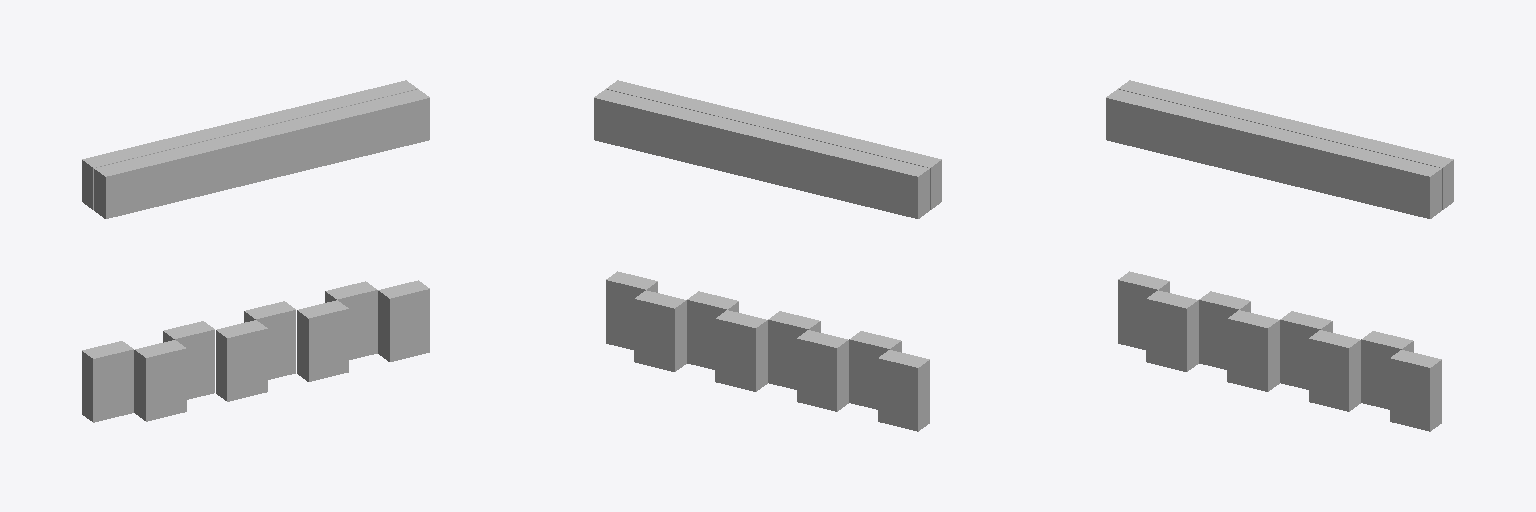
File: Colby9Edit.obj
3 views of the same model, side by side, from view 1: azimuth 30°, elevation 25°; view 2: azimuth 150°, elevation 25°; view 3: azimuth 330°, elevation 25° (orthographic).
Parts seen in each view (by area): view 1: Plane.001, Plane.001_Plane.000; view 2: Plane.001_Plane.000, Plane.001; view 3: Plane.001, Plane.001_Plane.000.
Boxes of the visible parts, x1=… form: Plane.001: x1=94, y1=89, x2=429, y2=421; Plane.001_Plane.000: x1=82, y1=80, x2=417, y2=422; Plane.001_Plane.000: x1=594, y1=89, x2=929, y2=431; Plane.001: x1=606, y1=80, x2=941, y2=409; Plane.001: x1=1106, y1=89, x2=1441, y2=431; Plane.001_Plane.000: x1=1118, y1=80, x2=1453, y2=409.
Bounding box in the file's own units: 16 × 12 × 2.04.